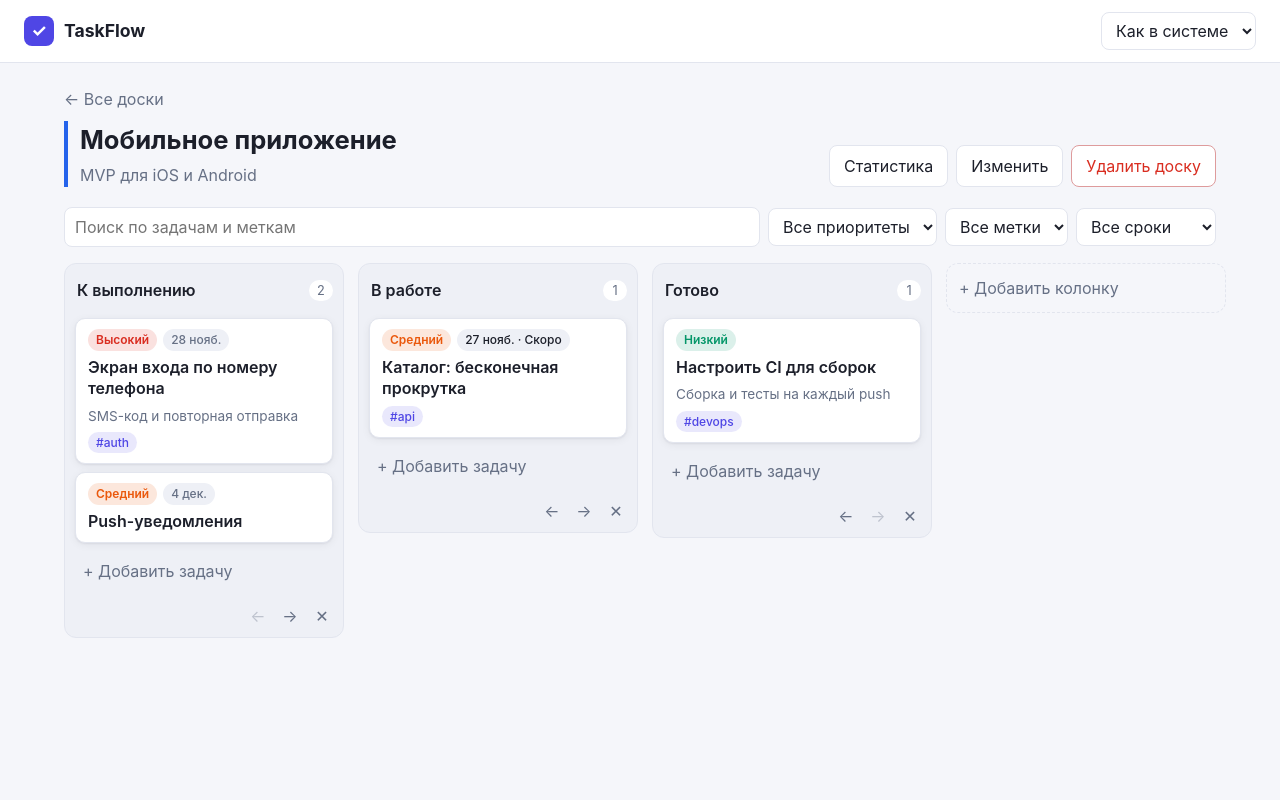
Test: статистика › открывается с доски и показывает итоги
The width and height of the screenshot is (1280, 800).
Click the link "Статистика".
click(889, 166)  # box [829,145,948,187]
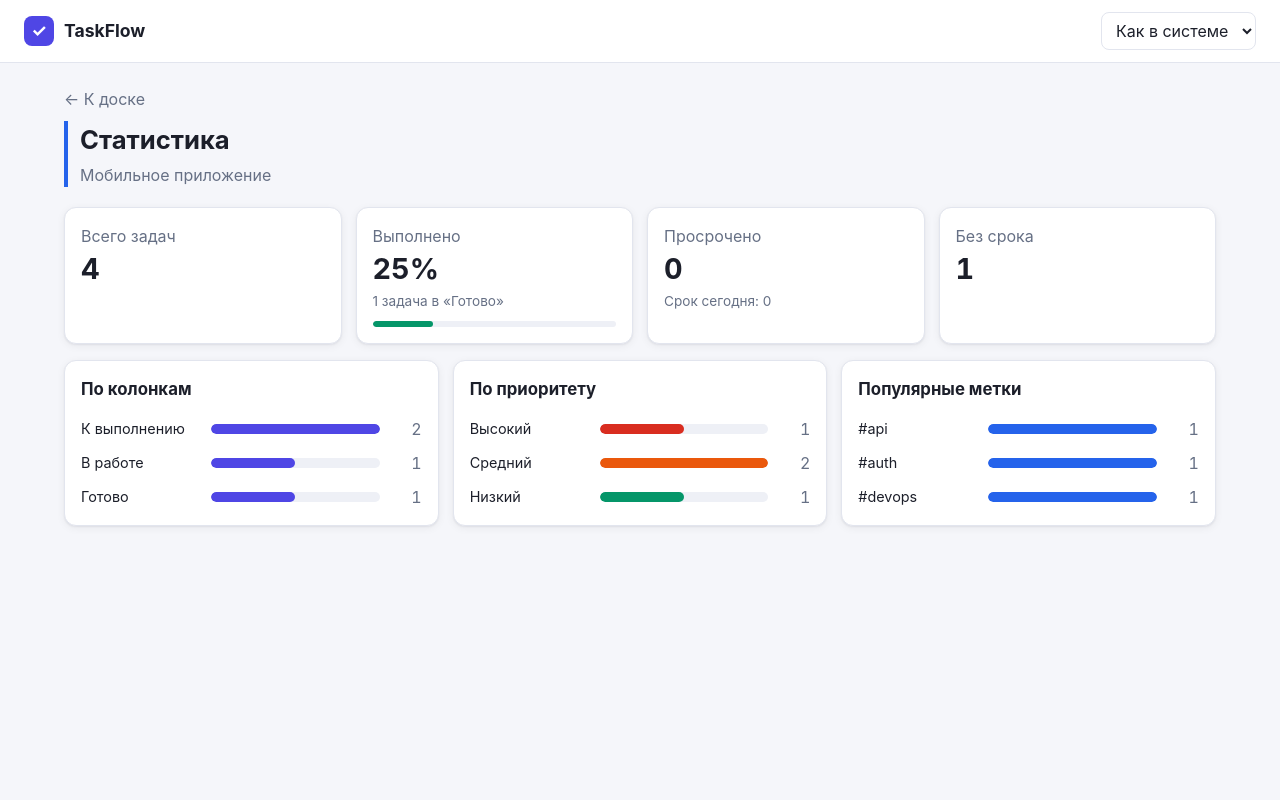
Expected: the text "4" is shown, [81,251,100,286]
Expected: the heading "Статистика" is shown, [80,124,230,155]
Expected: the heading "По колонкам" is shown, [81,379,192,399]
